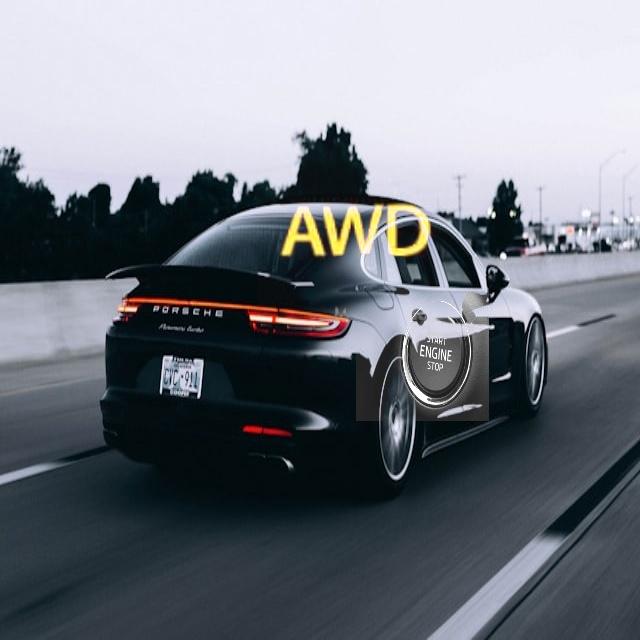symbol: (257, 135, 452, 330), (356, 288, 489, 421)
